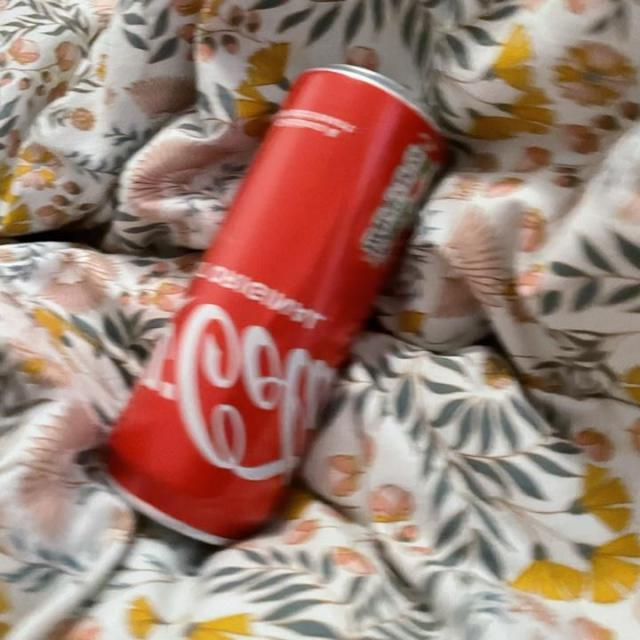can: (93, 61, 453, 549)
